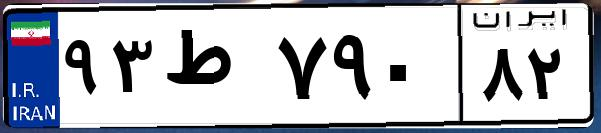0: (385, 28, 445, 110)
2: (525, 38, 570, 115)
3: (110, 28, 158, 98)
7: (270, 28, 330, 110)
8: (475, 38, 525, 113)
9: (330, 28, 385, 110), (57, 26, 110, 100)
ط: (158, 20, 270, 120)
